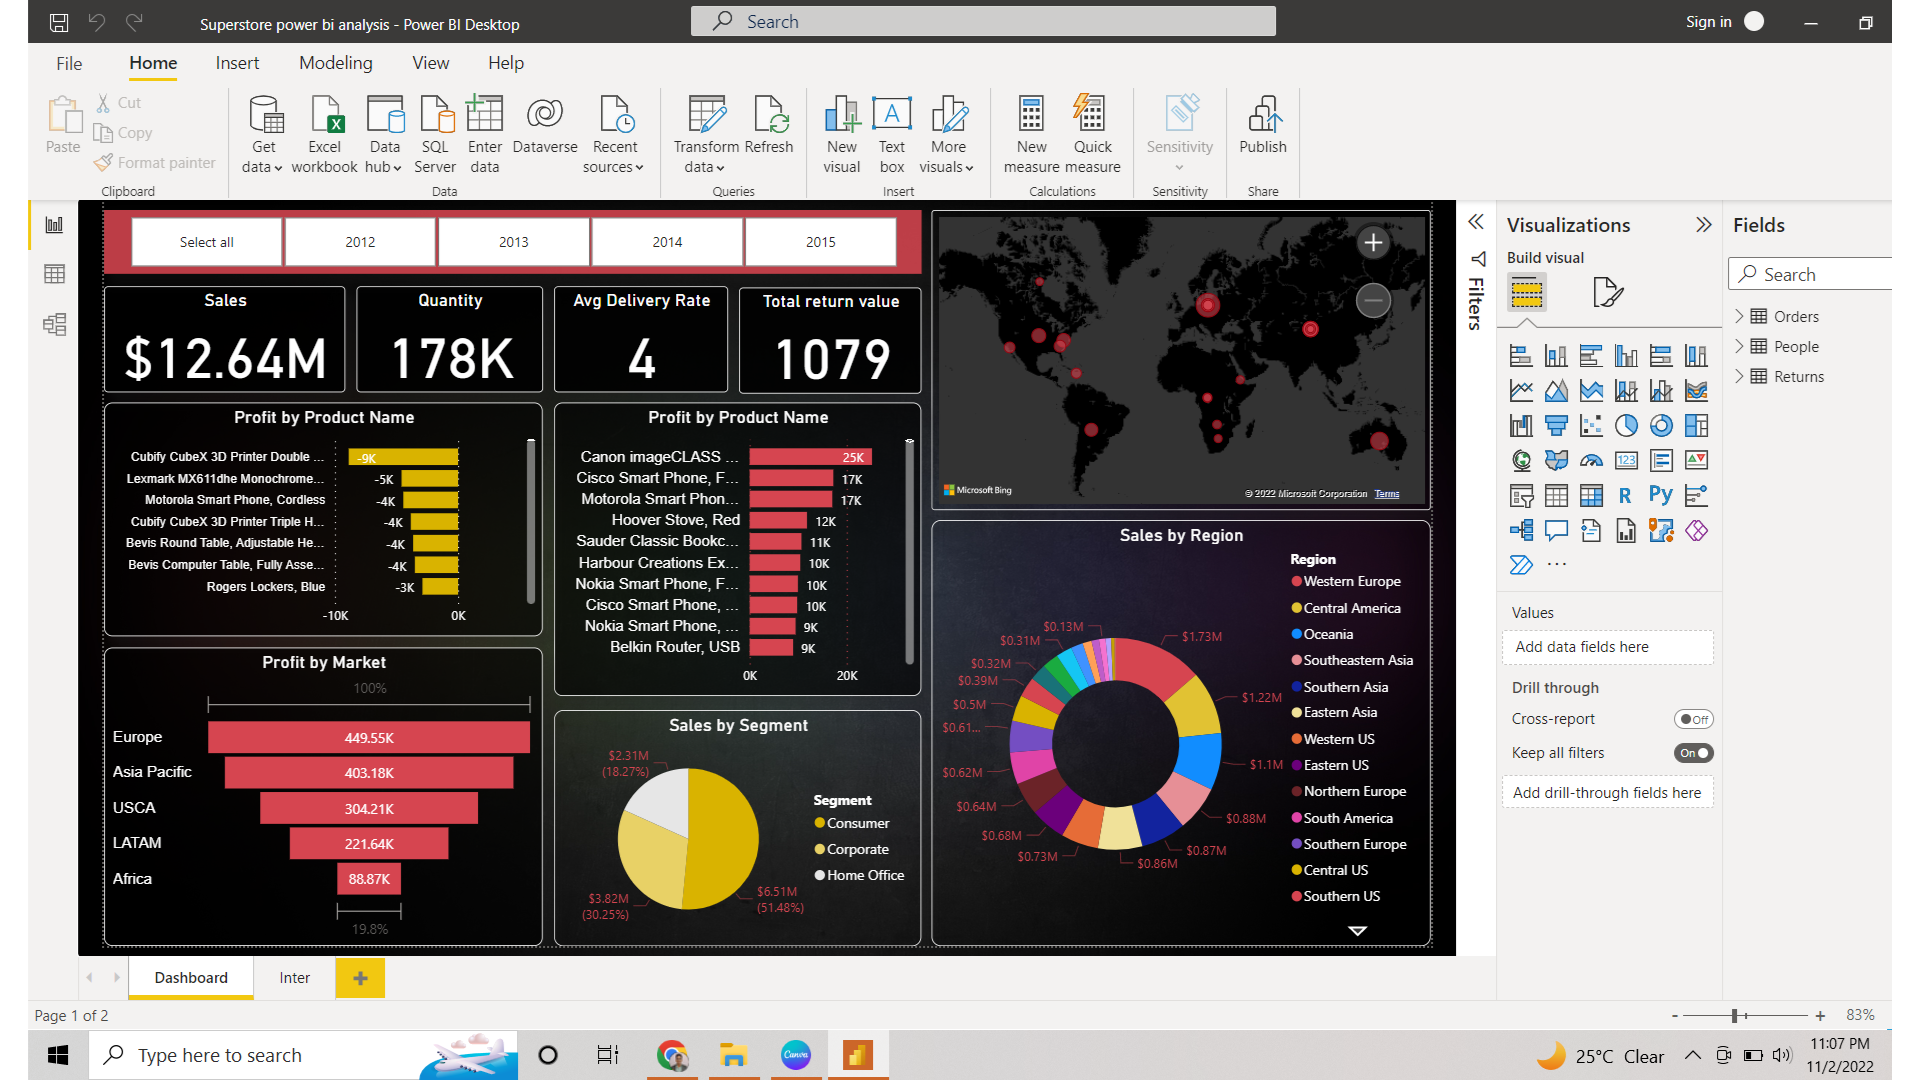

The page's visual inventory and layout, read from the dashboard file:
{"tool":"powerbi","page":{"name":"Dashboard","canvas":[1280,720],"ordinal":0},"visuals":[{"type":"card","title":"Sales","fields":{"Values":["Sum(Orders.Sales)"]},"box":[0,83.2,232.8,102.5],"z":0},{"type":"card","title":"Quantity","fields":{"Values":["Sum(Orders.Quantity)"]},"box":[243.6,83.2,179.7,102.5],"z":1000},{"type":"card","title":"Avg Delivery Rate","fields":{"Values":["Avg(Orders.Delivery Date)"]},"box":[434.2,83.2,167.6,102.5],"z":2000},{"type":"slicer","fields":{"Values":["Orders.Year"]},"box":[0,9.6,788.7,61.5],"z":3000},{"type":"card","title":"Total return value","fields":{"Values":["Sum(Returns.Return num)"]},"box":[612.7,84.4,176.1,102.5],"z":4000},{"type":"map","fields":{"Category":["Orders.Region"],"Size":["Sum(Orders.Sales)"]},"box":[798.4,9.6,481.2,289.4],"z":5000},{"type":"barChart","title":"Profit by Product Name","fields":{"Y":["Sum(Orders.Profit)"],"Category":["Orders.Product Name"]},"box":[434.2,195.4,354.6,283.4],"z":6000},{"type":"barChart","title":"Profit by Product Name","fields":{"Y":["Sum(Orders.Profit)"],"Category":["Orders.Product Name"]},"box":[0,195.4,423.3,225.5],"z":7000},{"type":"pieChart","title":"Sales by Segment","fields":{"Category":["Orders.Segment"],"Y":["Sum(Orders.Sales)"]},"box":[434.2,492.1,354.6,227.9],"z":8000},{"type":"donutChart","title":"Sales by Region","fields":{"Y":["Sum(Orders.Sales)"],"Category":["Orders.Region"]},"box":[798.4,308.7,481.2,411.3],"z":9000},{"type":"funnel","title":"Profit by Market","fields":{"Y":["Sum(Orders.Profit)"],"Category":["Orders.Market"]},"box":[0,431.8,423.3,288.2],"z":10000}]}

Visuals, with their boxes on the page's 1280x720 design canvas (x1, y1, x2, y2). These are canvas units, not pixel positions in the 1920x1080 screenshot, which may show the page scaled, cropped or inside an application window:
"Sales" card: [x1=0, y1=83, x2=233, y2=186]
"Quantity" card: [x1=244, y1=83, x2=423, y2=186]
"Avg Delivery Rate" card: [x1=434, y1=83, x2=602, y2=186]
slicer - Orders.Year: [x1=0, y1=10, x2=789, y2=71]
"Total return value" card: [x1=613, y1=84, x2=789, y2=187]
map - Orders.Region x Sum(Orders.Sales): [x1=798, y1=10, x2=1280, y2=299]
"Profit by Product Name" barChart: [x1=434, y1=195, x2=789, y2=479]
"Profit by Product Name" barChart: [x1=0, y1=195, x2=423, y2=421]
"Sales by Segment" pieChart: [x1=434, y1=492, x2=789, y2=720]
"Sales by Region" donutChart: [x1=798, y1=309, x2=1280, y2=720]
"Profit by Market" funnel: [x1=0, y1=432, x2=423, y2=720]
